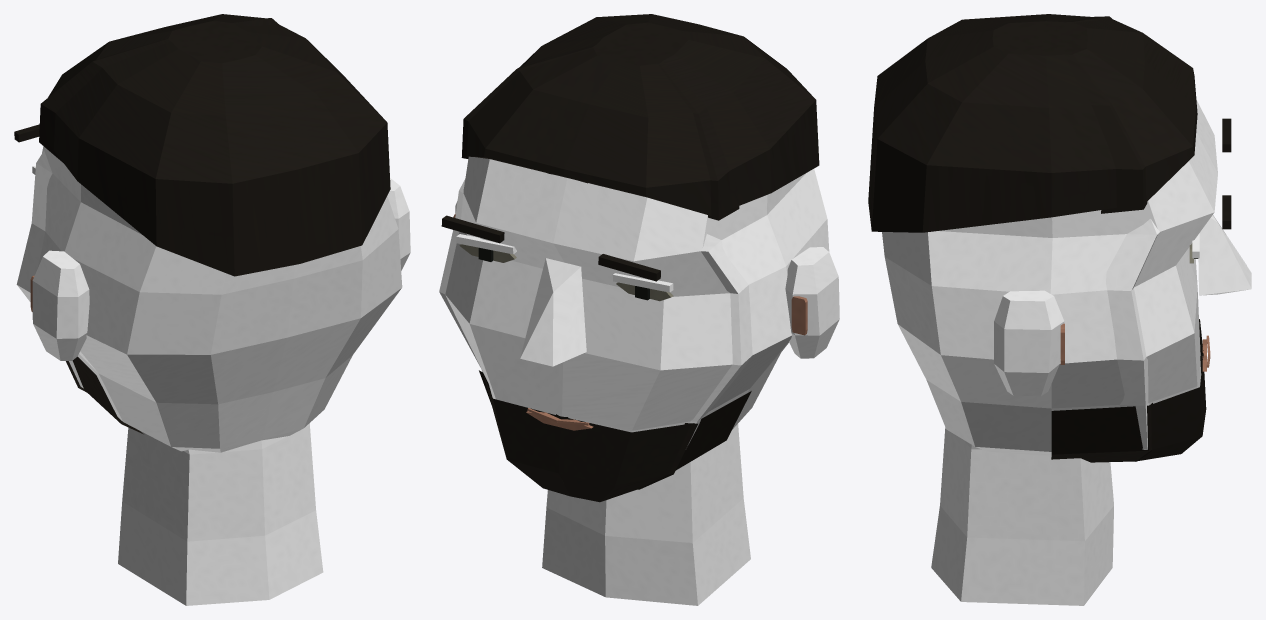
3 renders of one model, left to right at view 1: azimuth 30°, elevation 25°; view 2: azimuth 150°, elevation 25°; view 3: azimuth 270°, elevation 25°, orthographic. The views are drawn at different scales.
Parts seen in each view (by area): view 1: face_09_head_LOD0_RAID_skin.001, face_09_head_LOD0_RAID_hair1.001, face_09_head_LOD1_RAID_hair1.001, face_09_head_LOD1_RAID_skin.001; view 2: face_09_head_LOD0_RAID_skin.001, face_09_head_LOD0_RAID_hair1.001, face_09_head_LOD1_RAID_hair1.001, face_09_head_LOD1_RAID_skin.001, face_09_head_LOD0_RAID_lip.001, face_09_head_LOD0_RAID_eye.001; view 3: face_09_head_LOD0_RAID_skin.001, face_09_head_LOD0_RAID_hair1.001, face_09_head_LOD1_RAID_skin.001, face_09_head_LOD1_RAID_hair1.001.
Part boxes in pixels (left/top/right/bottom): face_09_head_LOD0_RAID_skin.001: left=32, top=146, right=410, bottom=605; face_09_head_LOD0_RAID_hair1.001: left=14, top=14, right=390, bottom=434; face_09_head_LOD1_RAID_hair1.001: left=39, top=18, right=278, bottom=392; face_09_head_LOD1_RAID_skin.001: left=16, top=150, right=83, bottom=388; face_09_head_LOD0_RAID_skin.001: left=445, top=156, right=839, bottom=605; face_09_head_LOD0_RAID_hair1.001: left=441, top=14, right=819, bottom=502; face_09_head_LOD1_RAID_hair1.001: left=461, top=25, right=739, bottom=495; face_09_head_LOD1_RAID_skin.001: left=439, top=179, right=752, bottom=445; face_09_head_LOD0_RAID_lip.001: left=453, top=214, right=807, bottom=430; face_09_head_LOD0_RAID_eye.001: left=459, top=244, right=673, bottom=301; face_09_head_LOD0_RAID_skin.001: left=882, top=99, right=1251, bottom=605; face_09_head_LOD0_RAID_hair1.001: left=868, top=14, right=1231, bottom=462; face_09_head_LOD1_RAID_skin.001: left=1106, top=219, right=1159, bottom=449; face_09_head_LOD1_RAID_hair1.001: left=1000, top=16, right=1203, bottom=461.
Bounding box in the file's own units: 0.2884 × 0.399 × 0.262.
5 materials, 5 textured.
